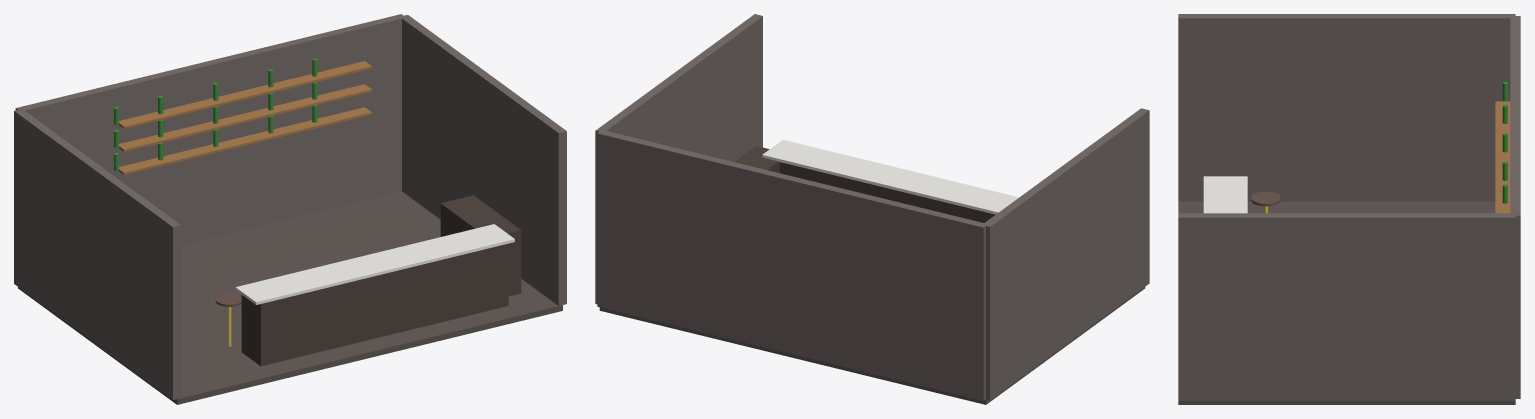
Rendered from room-bar.glb.
3 views of the same model, side by side, from view 1: azimuth 30°, elevation 25°; view 2: azimuth 150°, elevation 25°; view 3: azimuth 270°, elevation 25° (orthographic). The views are drawn at different scales.
Visible parts, largest first — view 1: WallBack, WallLeft, WallRight, Floor, BarFront, BarTop, BarSide, Shelf1, Shelf0, Shelf2; view 2: WallBack, WallLeft, WallRight, BarTop, BarFront, Floor, BarSide; view 3: WallRight, WallLeft, Floor, WallBack, BarTop, Shelf2, StoolSeat0.
Boxes of the visible parts, bbox=[...] form: WallBack: bbox=[15, 14, 405, 245]; WallLeft: bbox=[14, 109, 181, 399]; WallRight: bbox=[401, 15, 566, 305]; Floor: bbox=[18, 191, 562, 404]; BarFront: bbox=[241, 243, 508, 366]; BarTop: bbox=[235, 224, 514, 304]; BarSide: bbox=[440, 195, 521, 296]; Shelf1: bbox=[118, 84, 371, 151]; Shelf0: bbox=[118, 107, 371, 174]; Shelf2: bbox=[118, 61, 371, 128]; WallBack: bbox=[597, 131, 987, 400]; WallLeft: bbox=[984, 108, 1149, 399]; WallRight: bbox=[595, 14, 762, 304]; BarTop: bbox=[762, 139, 1018, 214]; BarFront: bbox=[779, 162, 995, 222]; Floor: bbox=[599, 287, 1145, 404]; BarSide: bbox=[734, 146, 779, 172]; WallRight: bbox=[1178, 213, 1515, 400]; WallLeft: bbox=[1178, 14, 1515, 201]; Floor: bbox=[1178, 201, 1515, 404]; WallBack: bbox=[1510, 16, 1520, 398]; BarTop: bbox=[1203, 176, 1247, 213]; Shelf2: bbox=[1495, 101, 1510, 213]; StoolSeat0: bbox=[1251, 191, 1280, 206].
Bounding box in the file's own units: 7.15 × 3.1 × 5.08.
